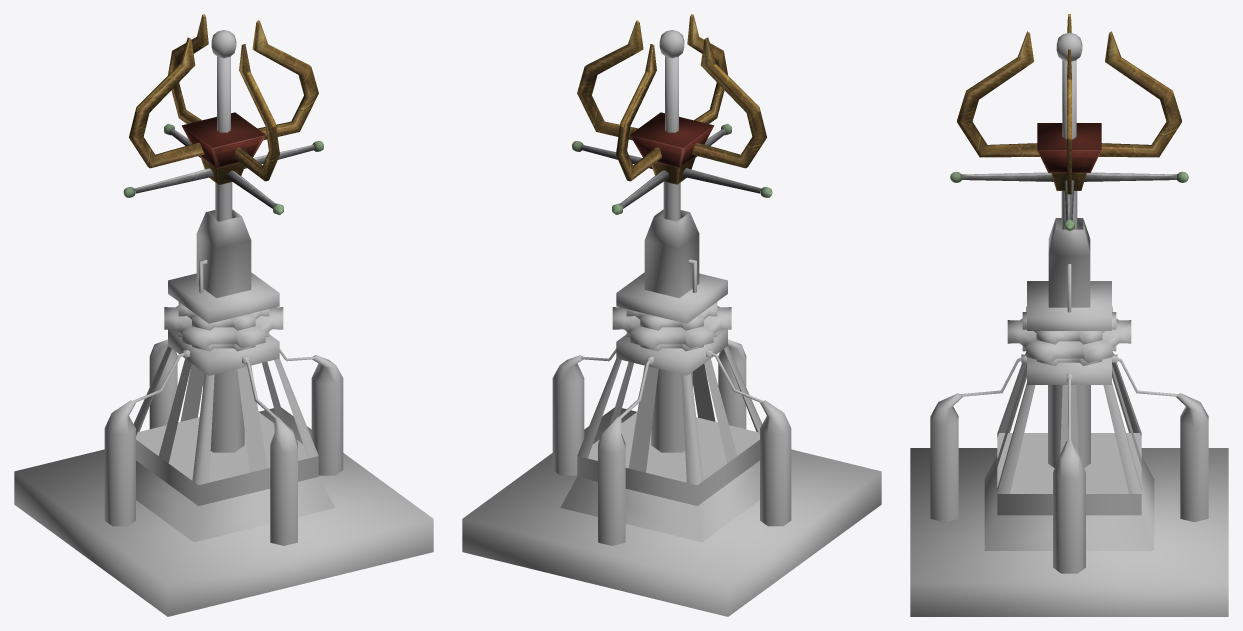
Rendered from LightningTower.fbx.
3 views of the same model, side by side, from view 1: azimuth 30°, elevation 25°; view 2: azimuth 150°, elevation 25°; view 3: azimuth 270°, elevation 25° (orthographic). The views are drawn at different scales.
Parts seen in each view (by area): view 1: base_lightning_tower_Cube_001, cima_lightning_tower_Cube_002, meio_lightning_tower_Cube_004; view 2: base_lightning_tower_Cube_001, cima_lightning_tower_Cube_002, meio_lightning_tower_Cube_004; view 3: base_lightning_tower_Cube_001, cima_lightning_tower_Cube_002, meio_lightning_tower_Cube_004.
Part boxes in pixels (<box>): base_lightning_tower_Cube_001: <box>14,30,433,616</box>; cima_lightning_tower_Cube_002: <box>129,14,318,181</box>; meio_lightning_tower_Cube_004: <box>123,123,323,215</box>; base_lightning_tower_Cube_001: <box>462,30,881,616</box>; cima_lightning_tower_Cube_002: <box>577,14,766,181</box>; meio_lightning_tower_Cube_004: <box>572,123,772,215</box>; base_lightning_tower_Cube_001: <box>910,32,1228,616</box>; cima_lightning_tower_Cube_002: <box>957,14,1181,194</box>; meio_lightning_tower_Cube_004: <box>950,171,1188,231</box>.
Bounding box in the file's own units: 100 × 179 × 100.
